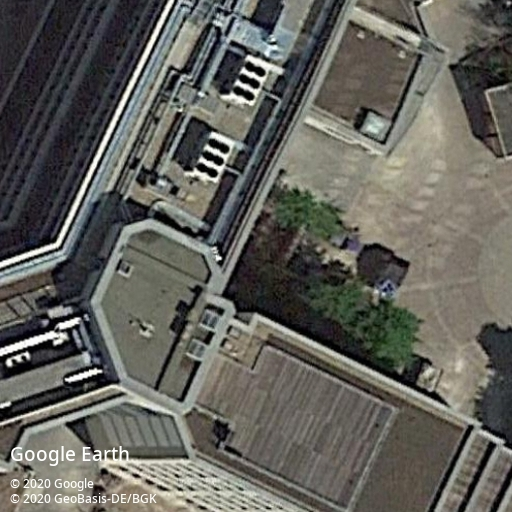Chiller: (193, 130, 235, 184), (231, 53, 271, 106)
